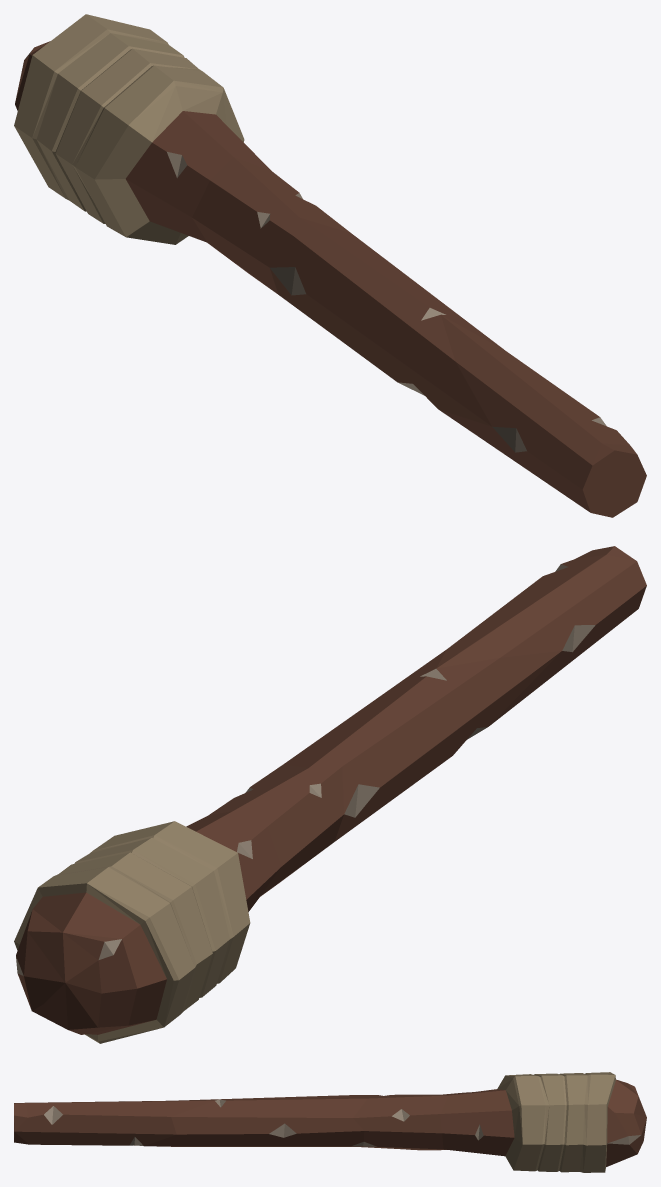
The model's file is Wood Torch.fbx.
3 renders of one model, top to bottom at view 1: azimuth 30°, elevation 25°; view 2: azimuth 150°, elevation 25°; view 3: azimuth 270°, elevation 25°, orthographic. The views are drawn at different scales.
Parts seen in each view (by area): view 1: Torch; view 2: Torch; view 3: Torch.
Part boxes in pixels (x1,y1,x2,y2): Torch: (14, 14, 646, 517); Torch: (14, 546, 646, 1043); Torch: (14, 1072, 646, 1172).
Size of the model in its own units: 9.98 by 58.96 by 9.99.
